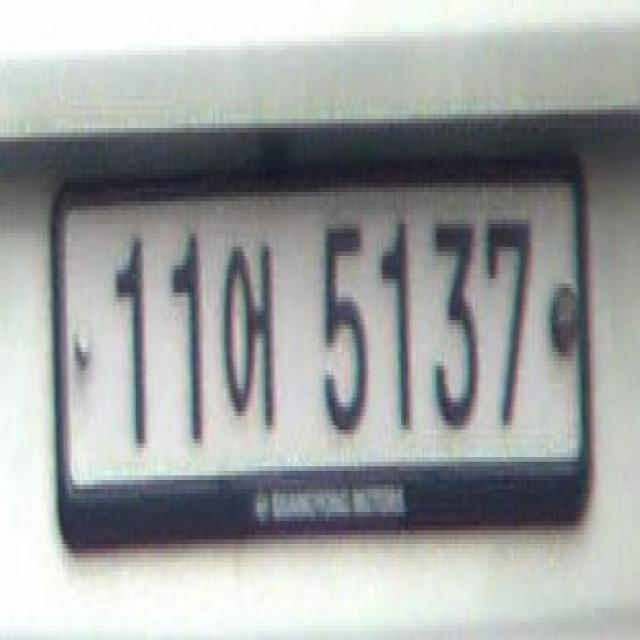1: (112, 226, 154, 456), (380, 208, 418, 443), (171, 226, 204, 454)
3: (430, 210, 483, 442)
5: (324, 214, 372, 436)
7: (486, 210, 544, 444)
eo: (220, 230, 286, 444)
license_plate: (50, 168, 600, 564)
